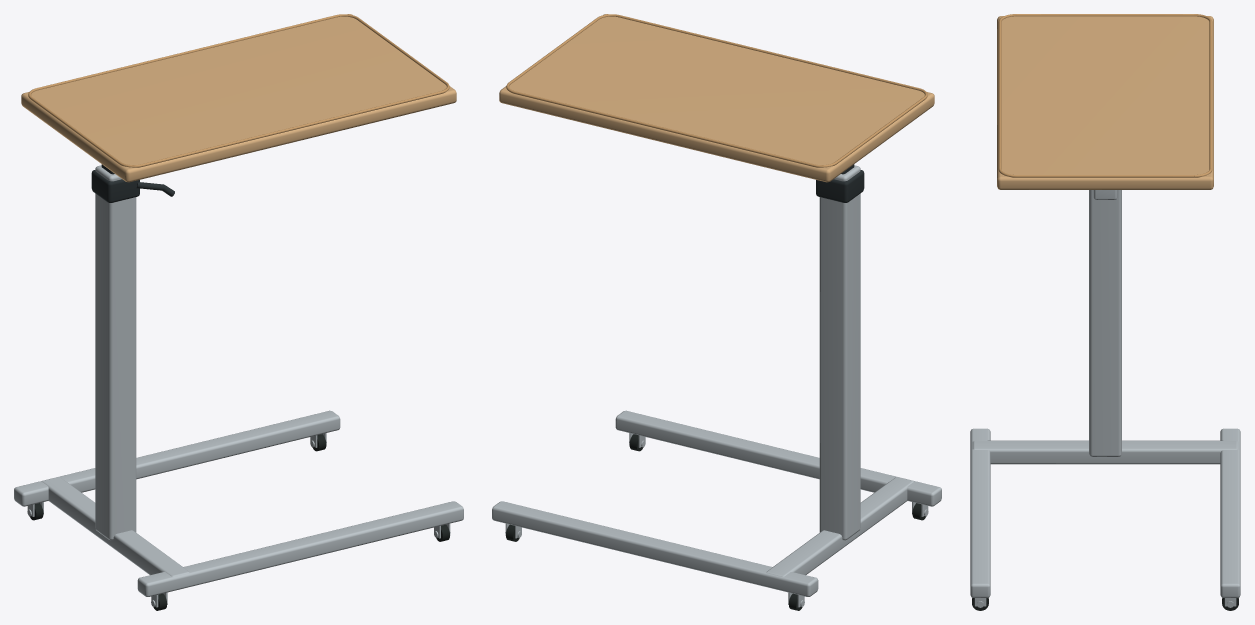
Rendered from overbed-table.glb.
The picture shows the model from 3 angles, left to right: view 1: azimuth 30°, elevation 25°; view 2: azimuth 150°, elevation 25°; view 3: azimuth 270°, elevation 25°; orthographic projection.
Parts seen in each view (by area): view 1: overbed-table authored assembly; view 2: overbed-table authored assembly; view 3: overbed-table authored assembly.
Boxes of the visible parts, x1,y1,x2,y2 form: overbed-table authored assembly: (14,14,463,610); overbed-table authored assembly: (492,14,941,610); overbed-table authored assembly: (970,14,1240,610).
Bounding box in the file's own units: 0.78 × 0.99 × 0.545.
